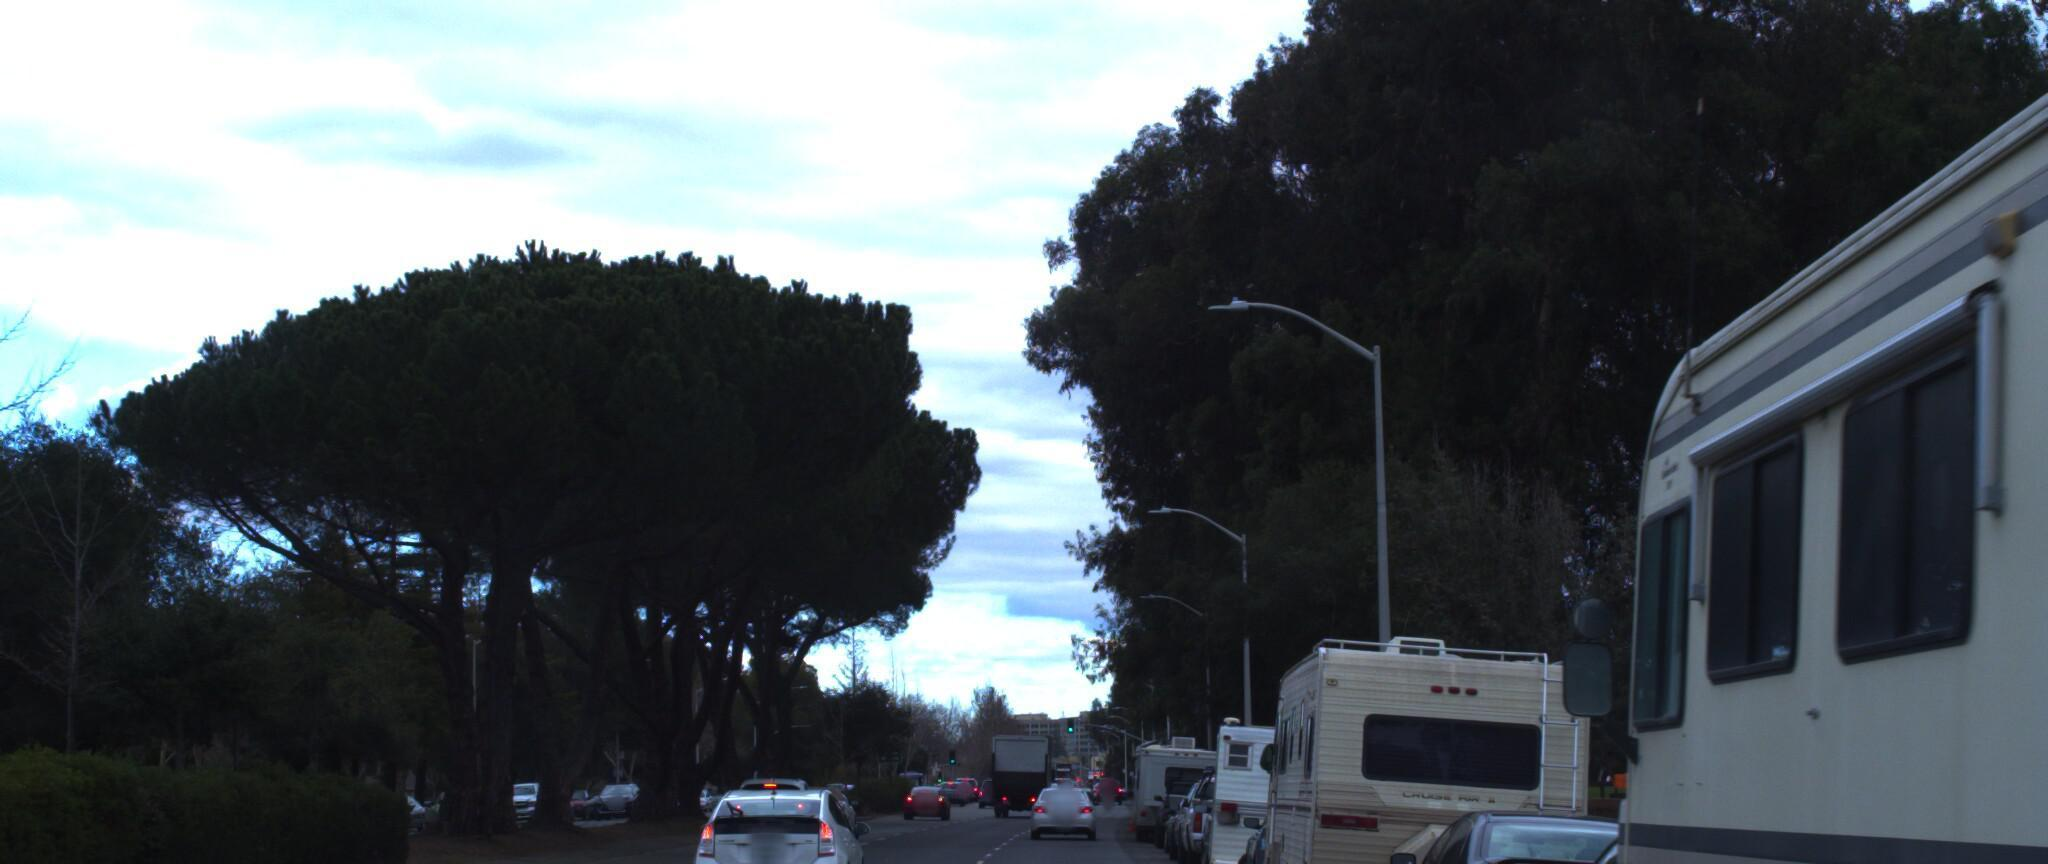car: (1469, 786, 2048, 864), (1356, 784, 1699, 864), (683, 761, 867, 864), (1156, 750, 1268, 861), (1011, 764, 1085, 822)
other_vehicle: (1529, 0, 2048, 864), (1238, 581, 1597, 864), (1183, 696, 1345, 864), (1114, 714, 1229, 838)
